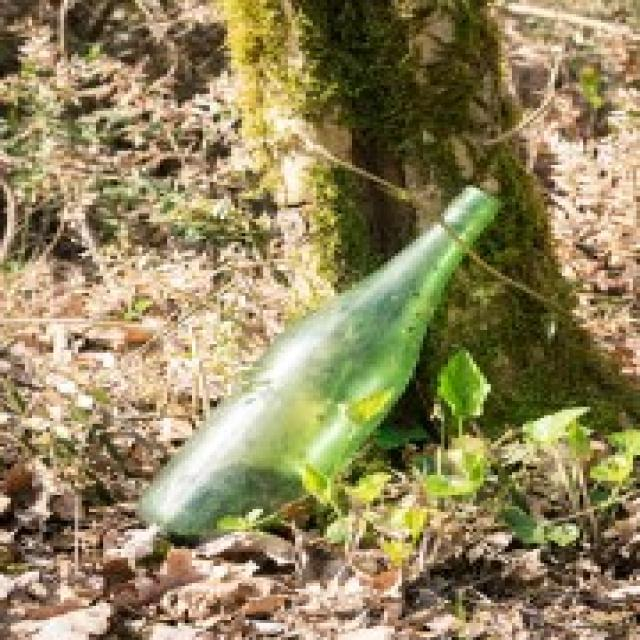electronic: (127, 182, 506, 552)
